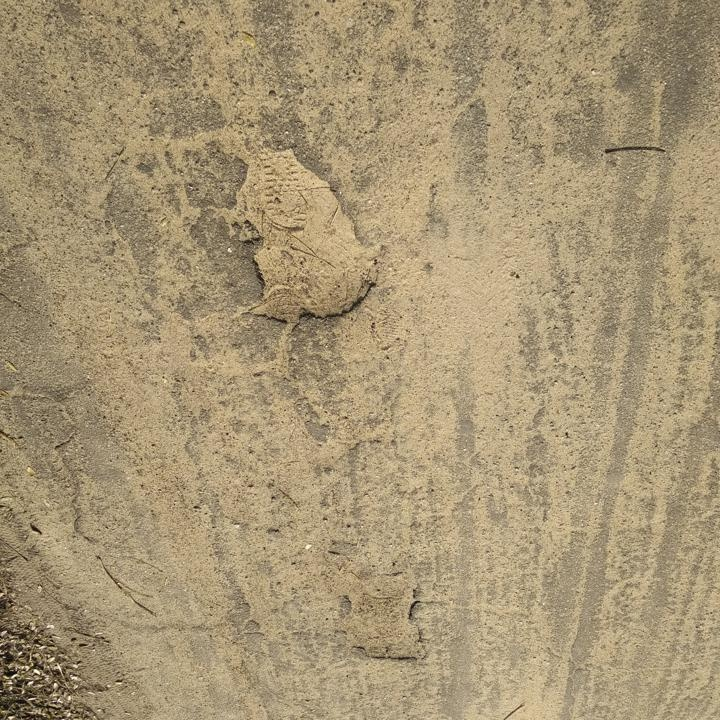pothole: (222, 143, 382, 334), (331, 569, 428, 667)
